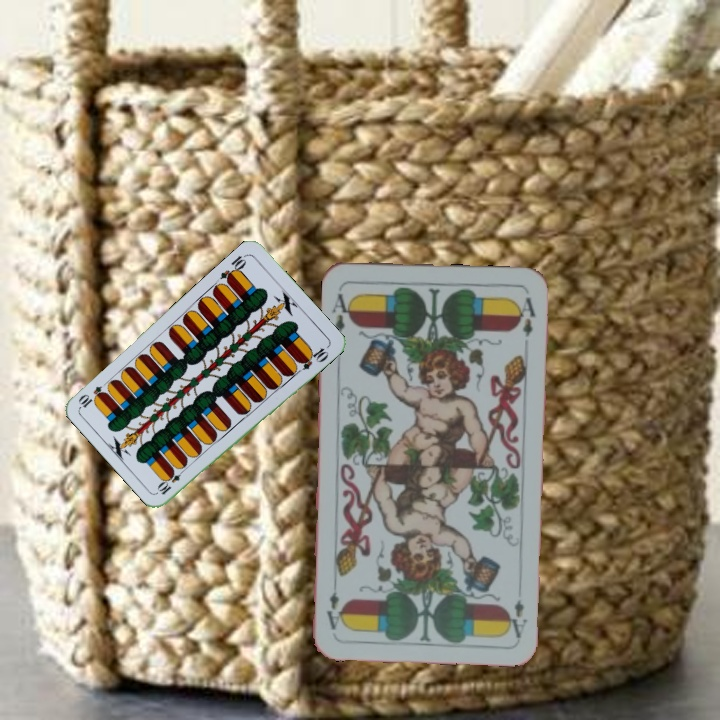E10: (216, 250, 249, 286), (154, 463, 188, 497)
EA: (327, 285, 355, 336), (503, 596, 530, 641)
